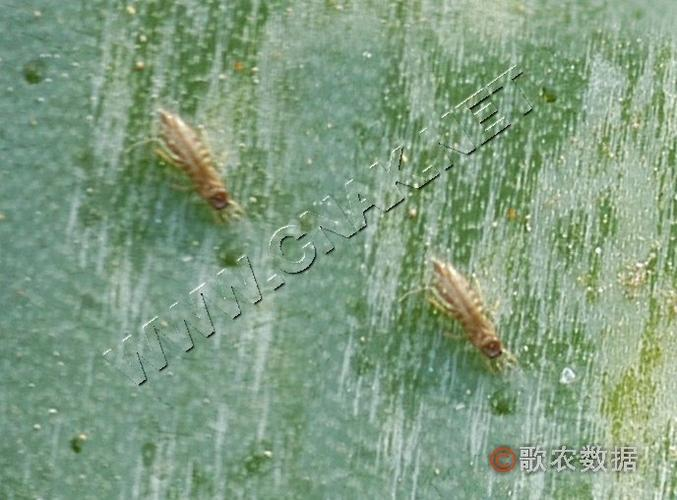Thripidae: (408, 251, 519, 380), (148, 106, 248, 224)
